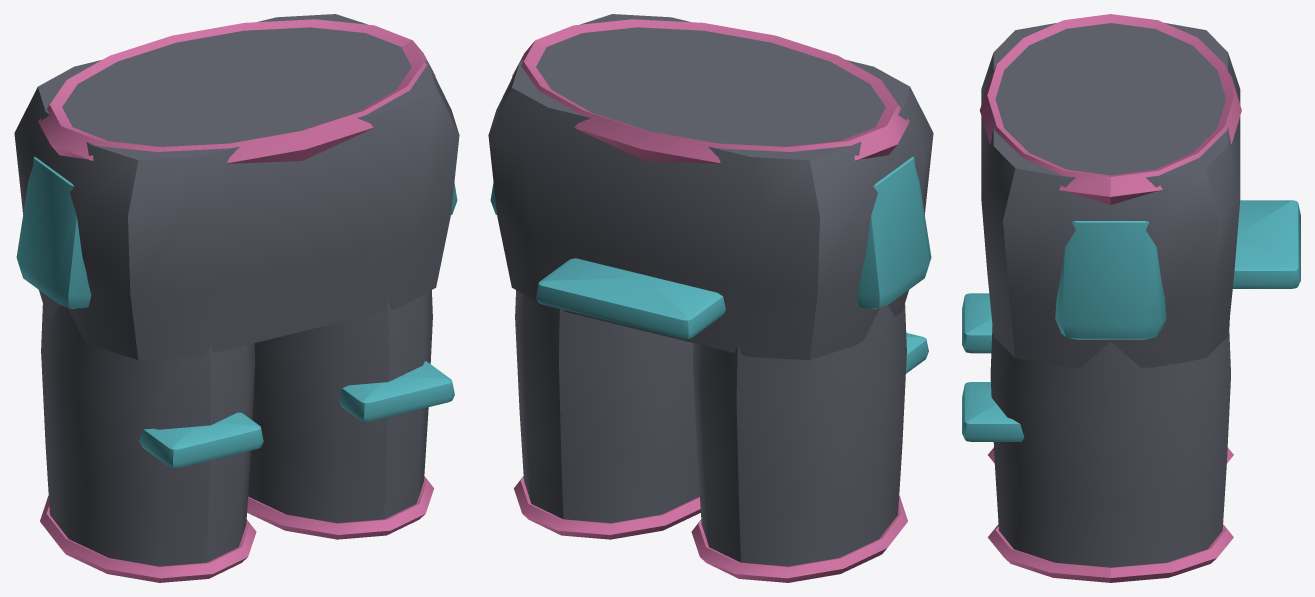
Rendered from snowboard-gear-and-freestyle-riders-impact-shorts-0cc0a18f__27158.glb.
3 renders of one model, left to right at view 1: azimuth 30°, elevation 25°; view 2: azimuth 150°, elevation 25°; view 3: azimuth 270°, elevation 25°, orthographic. The views are drawn at different scales.
Visible parts, largest first — view 1: impact-shorts; view 2: impact-shorts; view 3: impact-shorts.
Boxes of the visible parts, x1,y1,x2,y2 form: impact-shorts: (14,14,459,582); impact-shorts: (488,14,933,582); impact-shorts: (962,14,1300,582).
Bounding box in the file's own units: 0.3563 × 0.365 × 0.2745.
